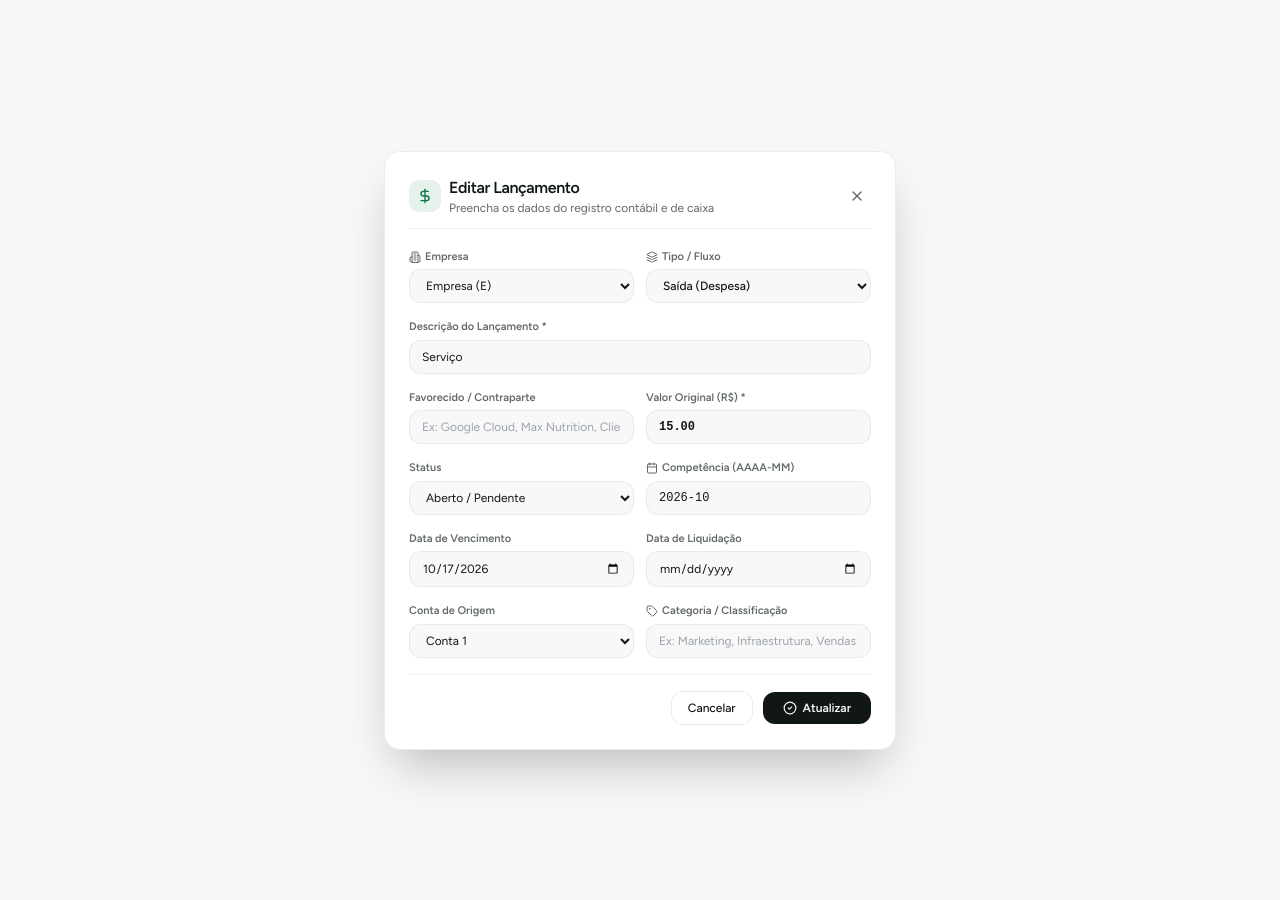
Test: edição financeira protegida › mantém o rascunho aberto em conflito de versão
Replace the text in the field labelled "Descrição do Lançamento *" with "Serviço revisado" at (640, 356), box [409,340,871,374]
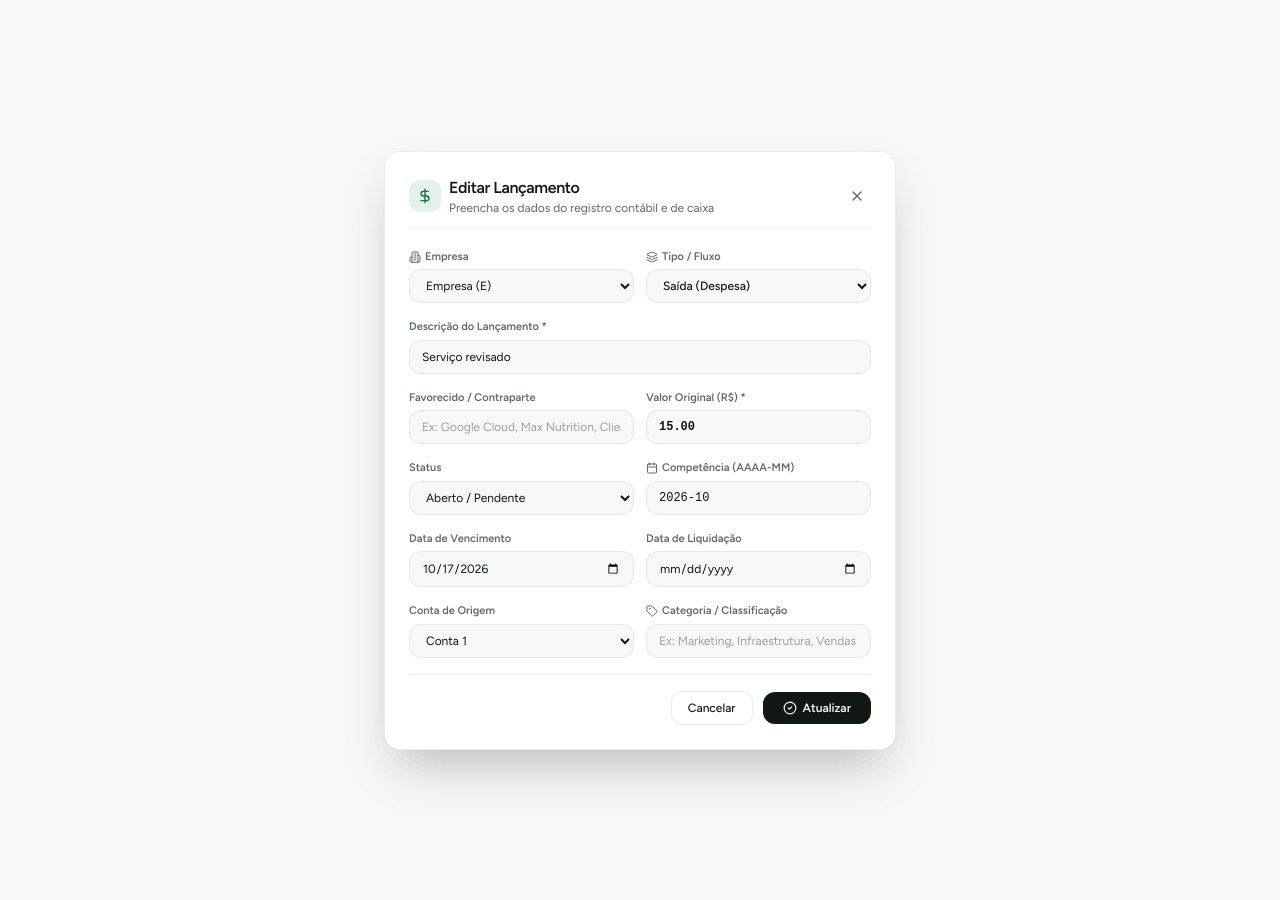
Click the button "Atualizar".
click(817, 708)  # box [763,692,871,724]
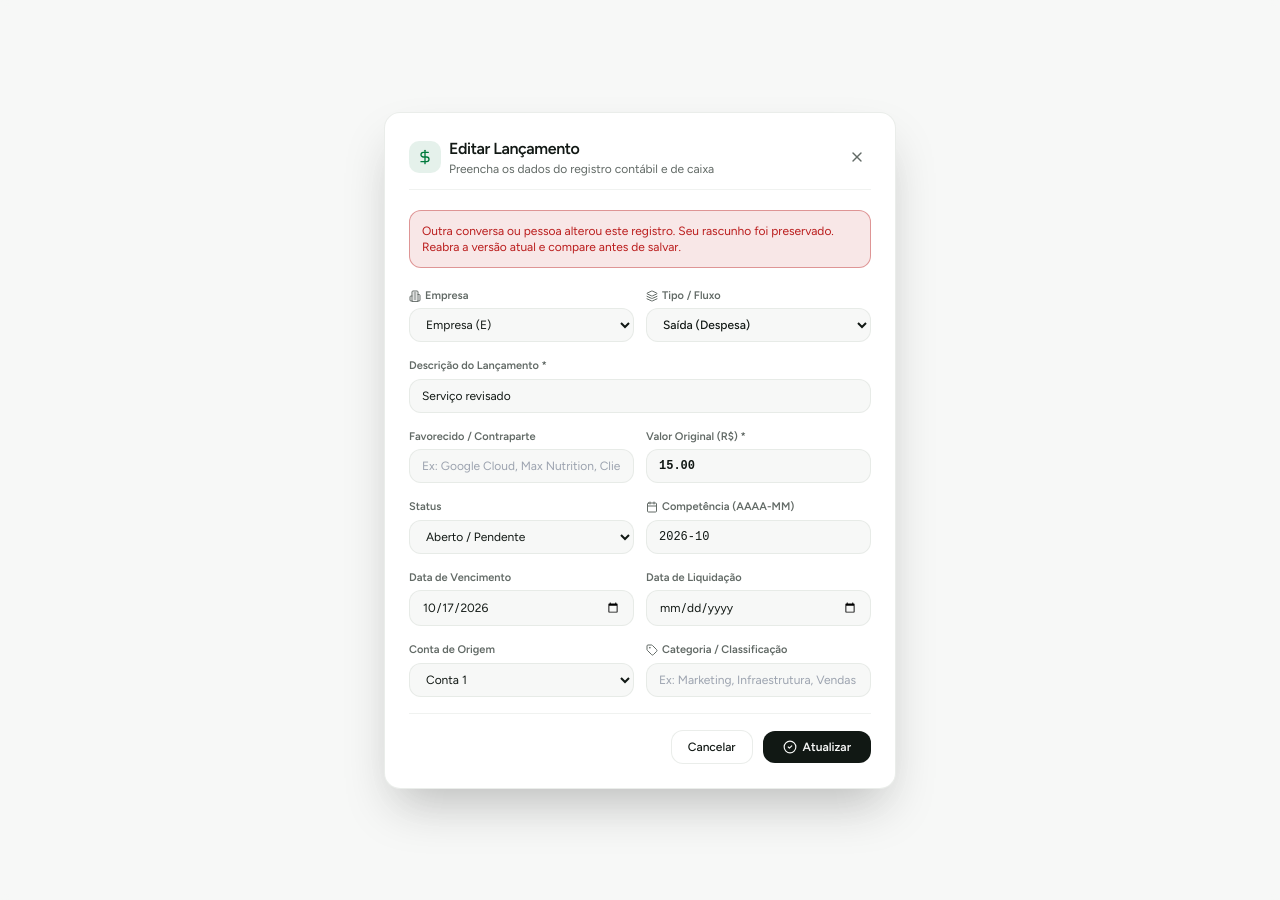
Now the text "Outra conversa ou pessoa alterou este registro. Seu rascunho foi preservado. Reabra a versão atual e compare antes de sa" is shown, box [422,224,834,254]
